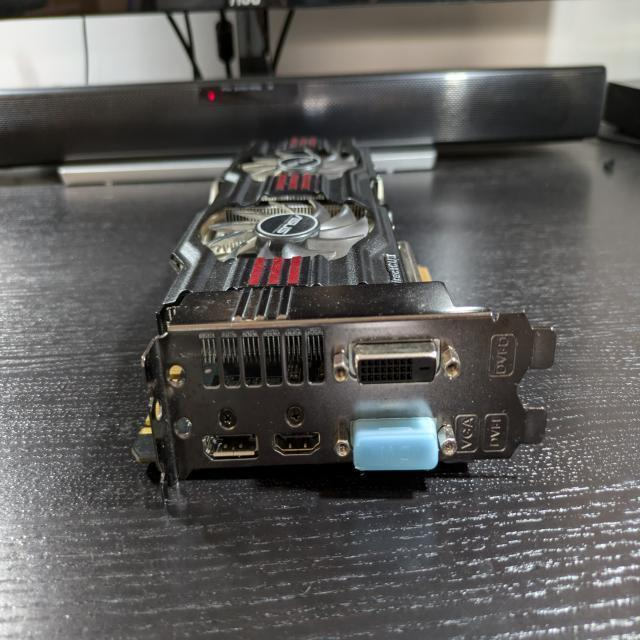GPU: (129, 128, 564, 474)
